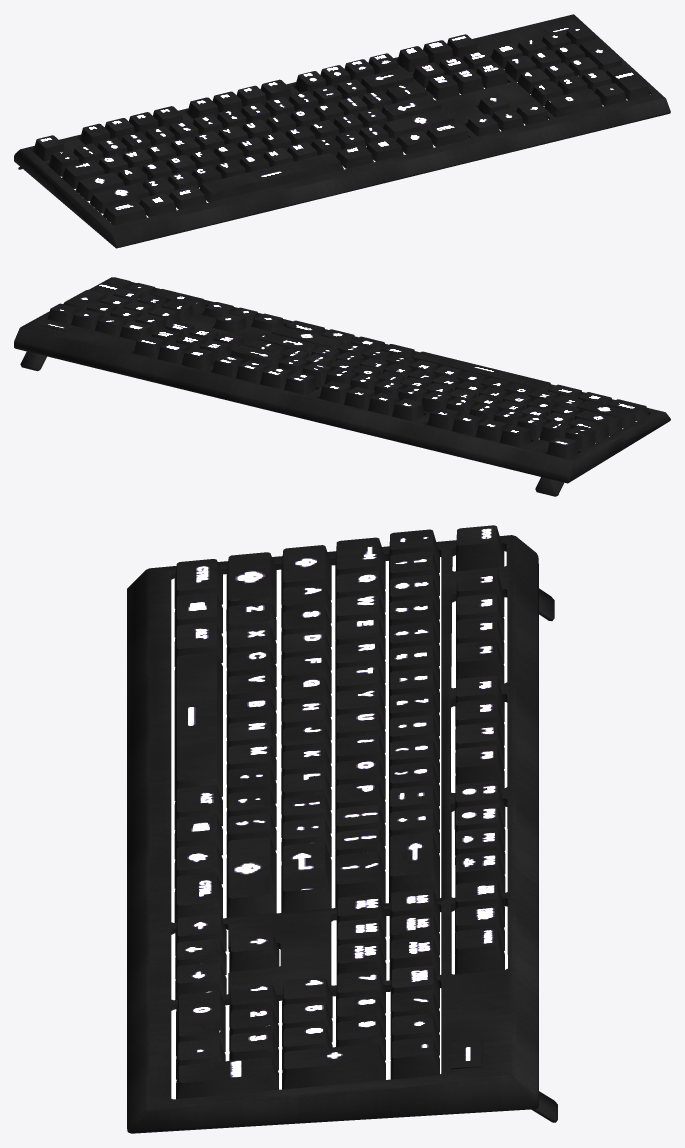
The model's file is Keyboard.fbx.
3 views of the same model, one above another, from view 1: azimuth 30°, elevation 25°; view 2: azimuth 150°, elevation 25°; view 3: azimuth 270°, elevation 25° (orthographic). The views are drawn at different scales.
Parts seen in each view (by area): view 1: Keyboard; view 2: Keyboard; view 3: Keyboard.
Part boxes in pixels (x1,y1,x2,y2): Keyboard: (14,14,670,248); Keyboard: (14,277,670,496); Keyboard: (127,525,557,1133).
Size of the model in its own units: 604 by 41.85 by 203.
